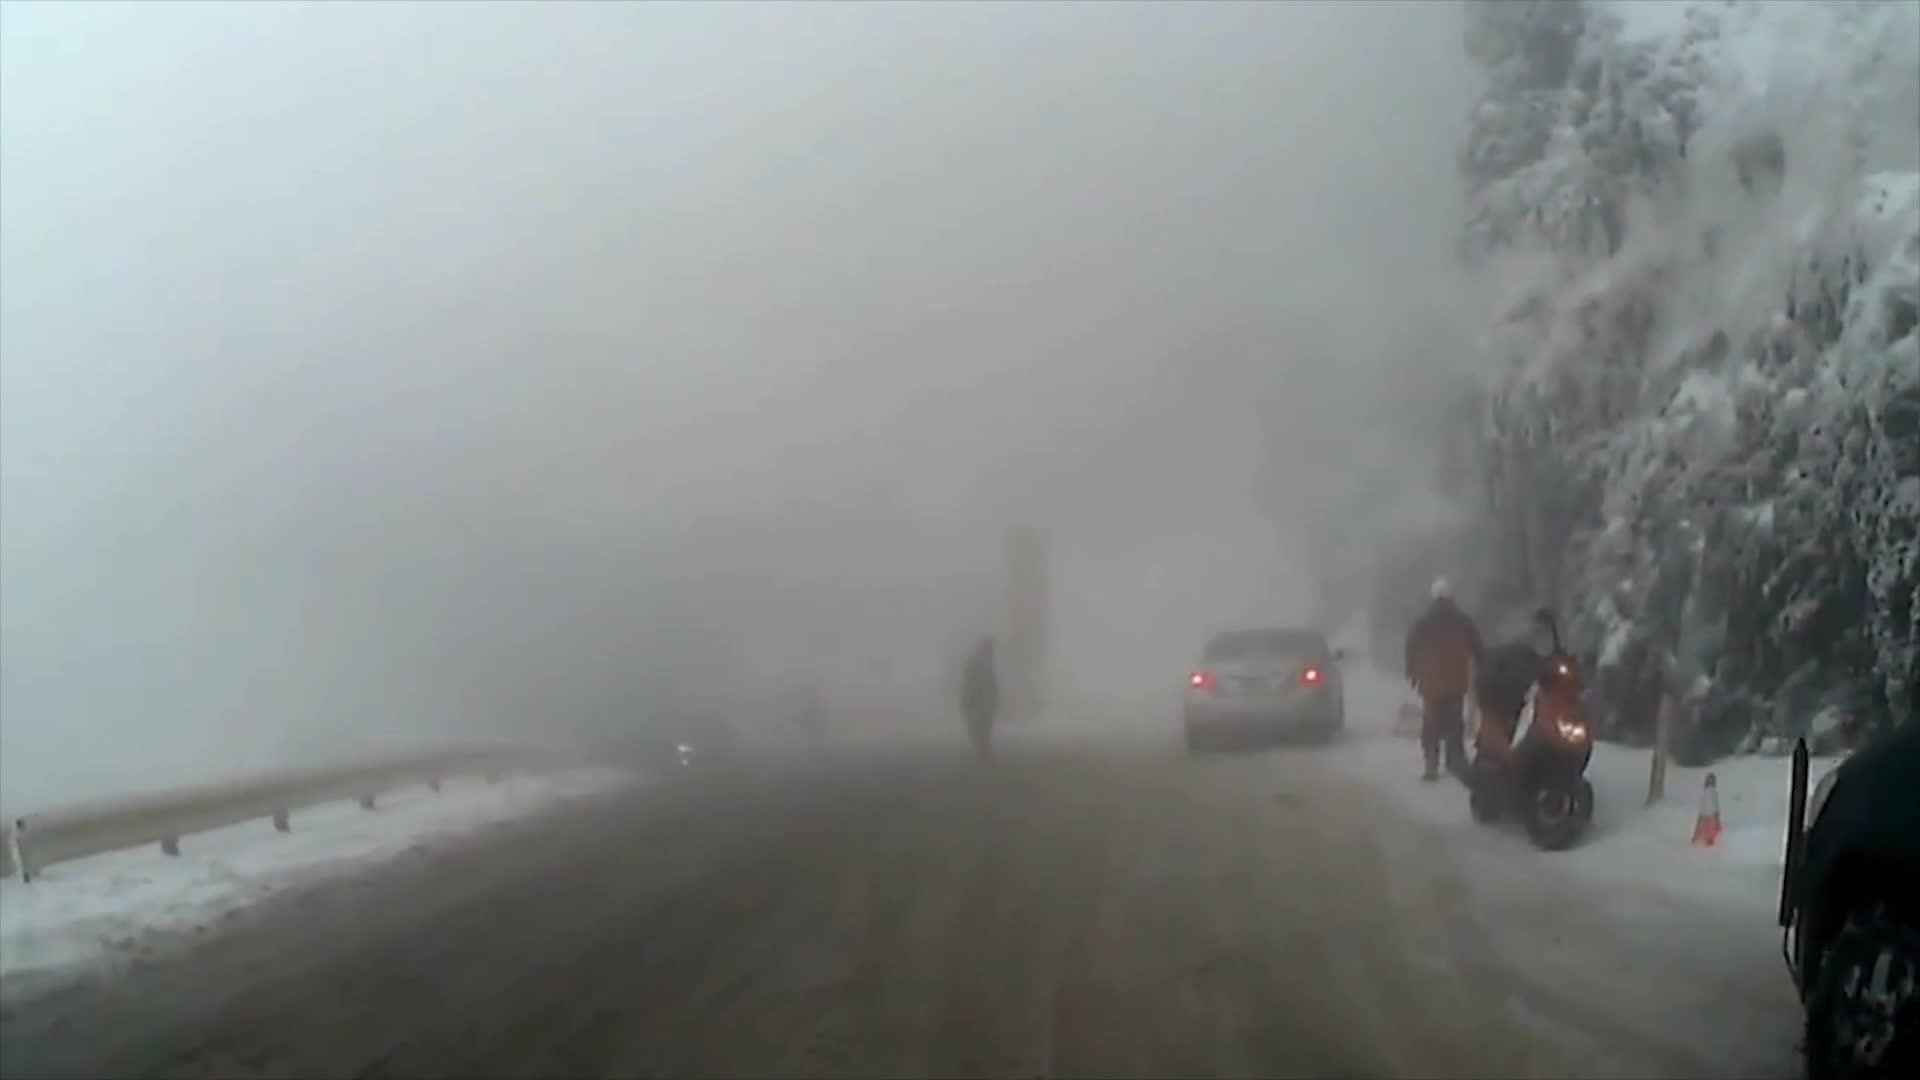pedestrian: (1406, 568, 1493, 786), (958, 636, 1001, 773)
vehicle: (1774, 665, 1919, 1079), (1179, 623, 1348, 755)
